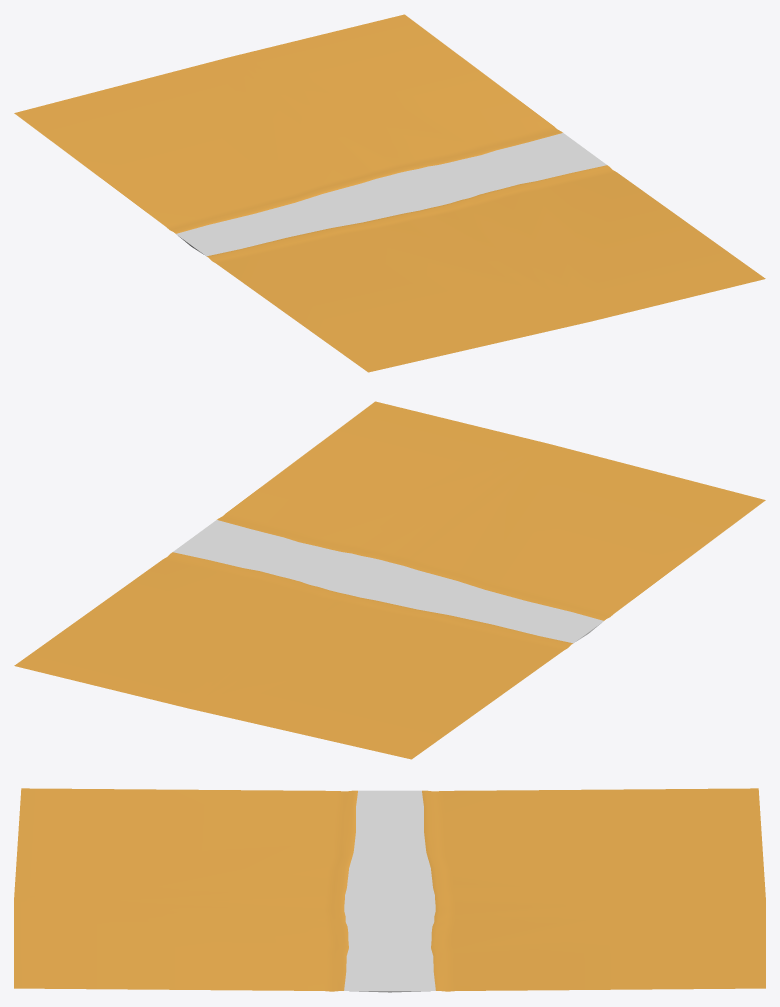
Rendered from neww yollllfbx.fbx.
The picture shows the model from 3 angles, top to bottom: view 1: azimuth 30°, elevation 25°; view 2: azimuth 150°, elevation 25°; view 3: azimuth 270°, elevation 25°; orthographic projection. The views are drawn at different scales.
Parts seen in each view (by area): view 1: Cube.006; view 2: Cube.006; view 3: Cube.006.
Part boxes in pixels (box(x1,y1,x2,y2)): Cube.006: box(14, 14, 765, 372); Cube.006: box(14, 401, 765, 759); Cube.006: box(14, 788, 765, 992).
Size of the model in its own units: 247 by 2.29 by 392.
